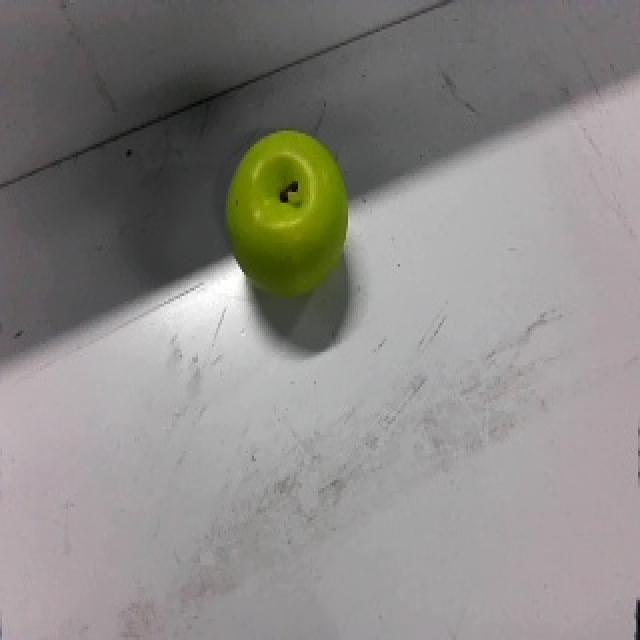apple: (224, 126, 350, 299)
